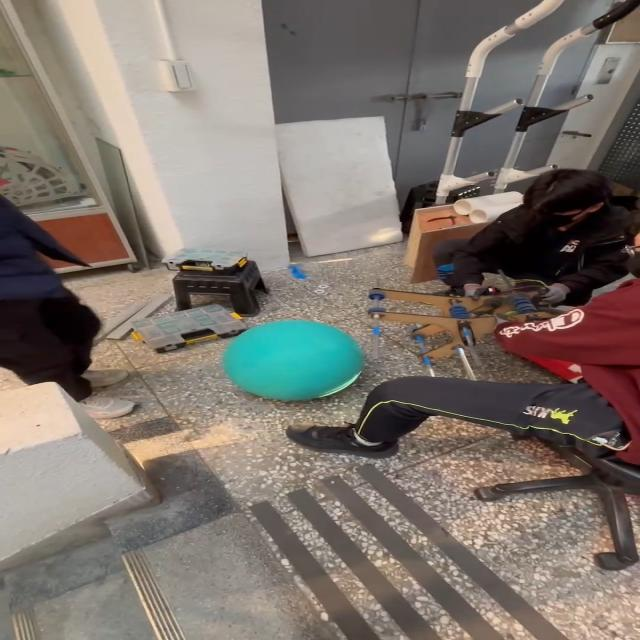ALGAE: (220, 318, 366, 402)
